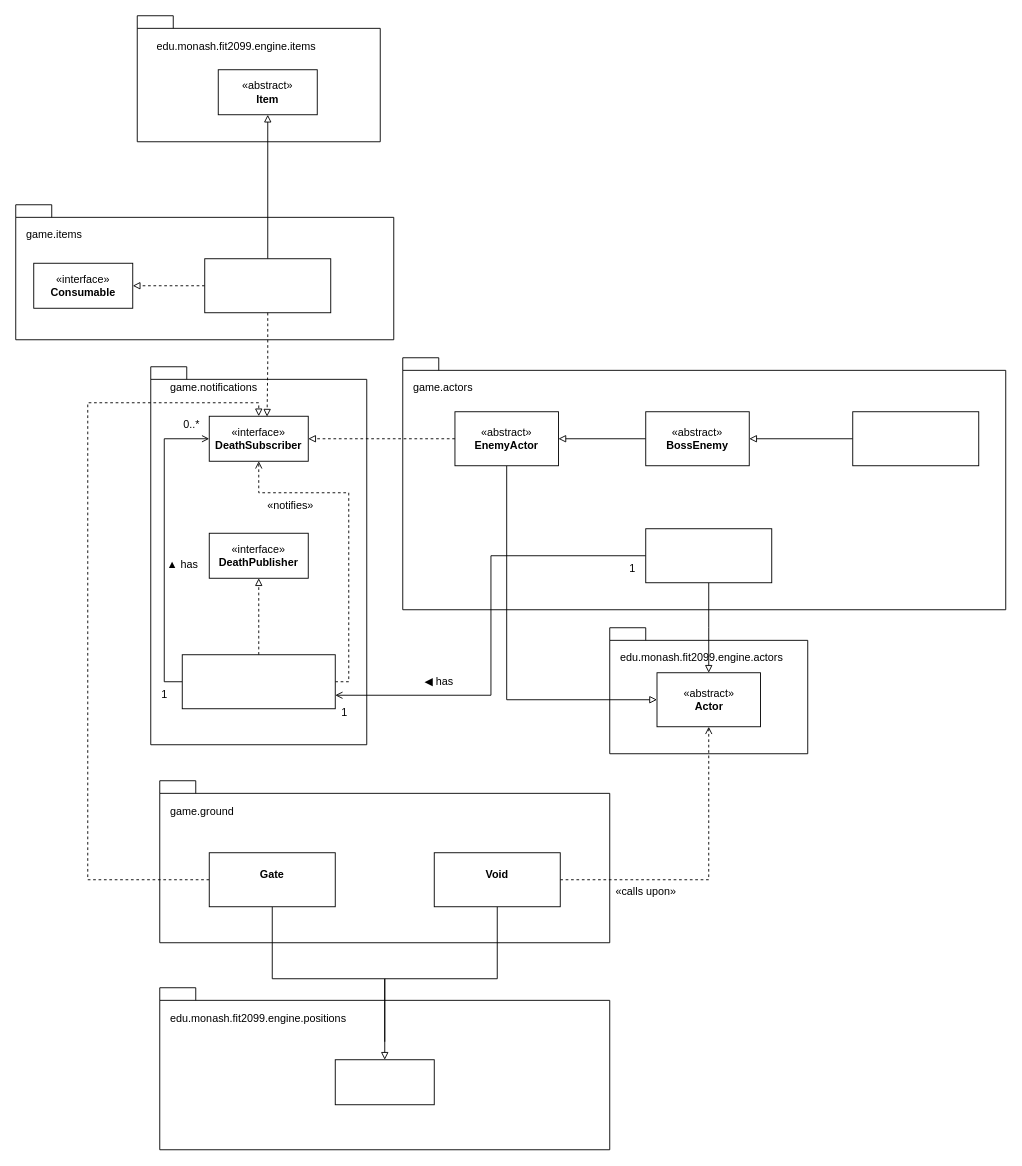
This 1022x1166 diagram has some shape labels left out. The shapes that lost their labels are listed below. From the top down, each one's box as (x1, y1, x2, y2) in pixels, then its label:
(204, 258, 331, 313): Rune
(852, 411, 979, 466): Abxervyer
(645, 528, 772, 583): Player
(181, 654, 335, 709): PlayerDeathMessageBus
(334, 1059, 434, 1105): «abstract» Ground
